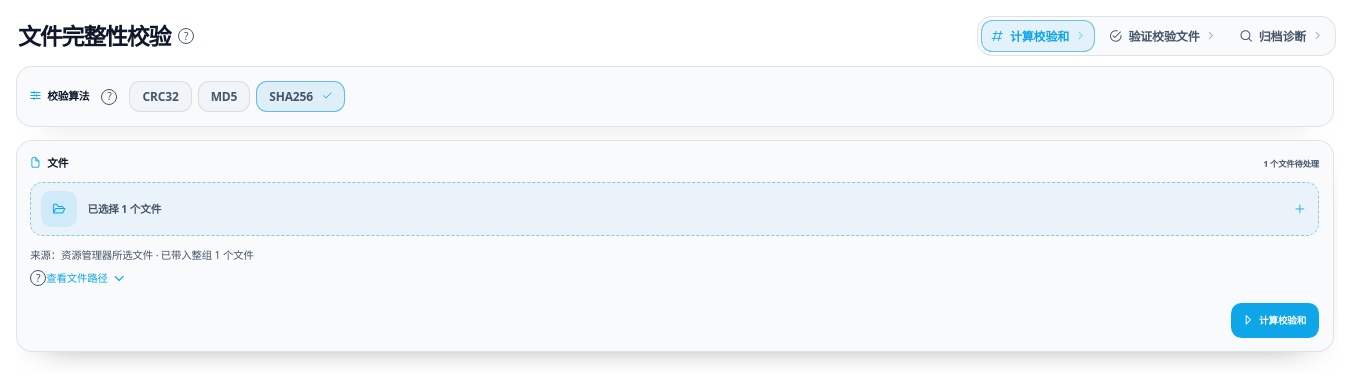
explorer checksum 1528 › reports an actual read failure without a green success notification
The width and height of the screenshot is (1353, 382).
Click the button with test id "checksum-calculate-start" at (1275, 320), box [1231,303,1319,338]
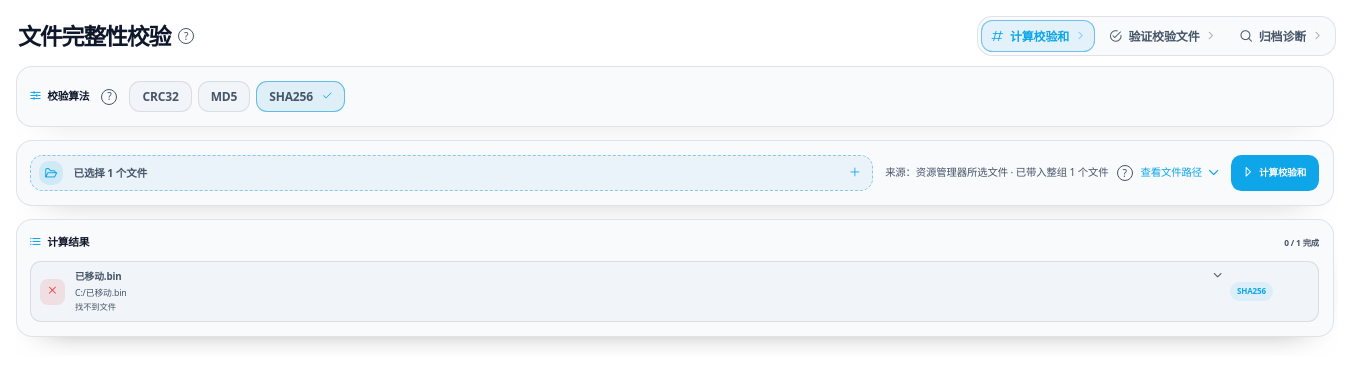
Expected: the element showing "已移动.bin C:/已移动.bin 找不到文件 SHA256" is shown, [30,261,1319,322]
